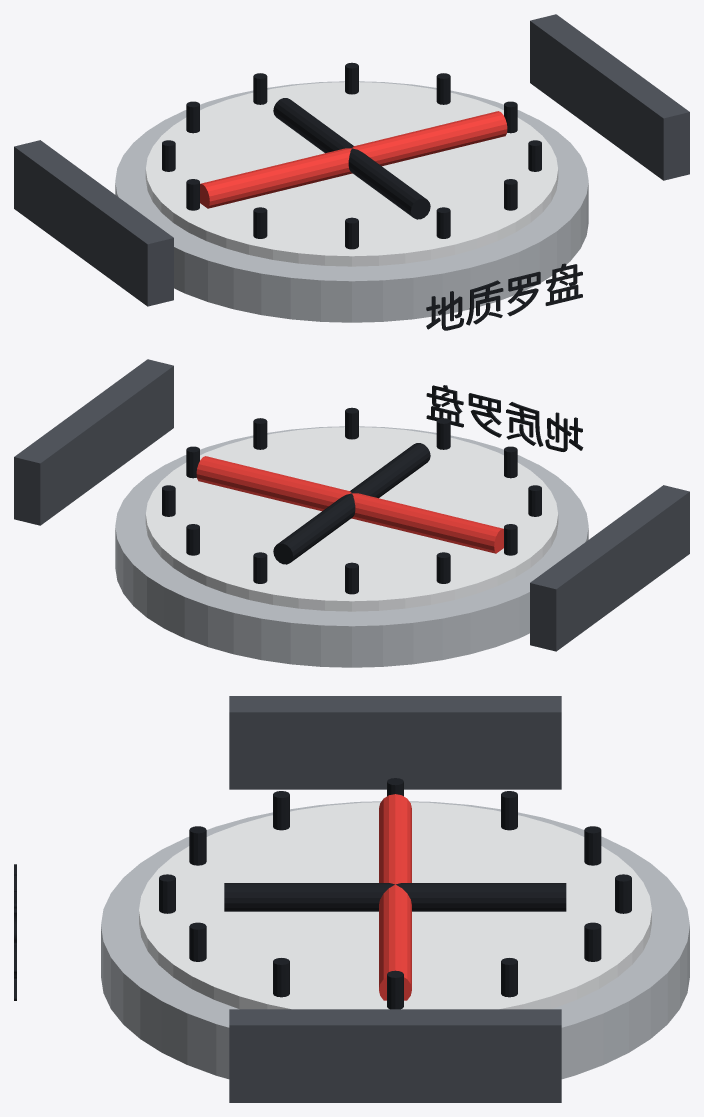
The model's file is asset_compass.glb.
The picture shows the model from 3 angles, top to bottom: view 1: azimuth 30°, elevation 25°; view 2: azimuth 150°, elevation 25°; view 3: azimuth 270°, elevation 25°; orthographic projection. The views are drawn at different scales.
Visible parts, largest first — view 1: dial, round_body, sight_l, sight_r, needle_red, needle_black, asset_label; view 2: dial, round_body, sight_l, sight_r, needle_red, needle_black, asset_label; view 3: dial, sight_r, sight_l, round_body, needle_black, needle_red, tick_4, tick_8, tick_2, tick_10, tick_9, tick_3 (+5 smaller).
Part boxes in pixels (x1,y1,x2,y2): dial: (145,82,558,266); round_body: (115,81,588,322); sight_l: (14,140,173,306); sight_r: (530,14,689,180); needle_red: (200,111,507,208); needle_black: (273,98,430,219); asset_label: (426,263,582,330); dial: (145,427,558,611); round_body: (115,426,588,667); sight_l: (530,485,689,651); sight_r: (14,359,173,525); needle_red: (196,456,503,553); needle_black: (273,443,430,564); asset_label: (426,385,583,451); dial: (139,802,651,1009); sight_r: (229,1009,561,1102); sight_l: (229,696,561,789); round_body: (101,801,689,1079); needle_black: (224,883,566,911); needle_red: (379,794,411,1000); tick_4: (584,826,601,865); tick_8: (189,826,206,865); tick_2: (584,922,601,961); tick_10: (189,922,206,961); tick_9: (159,874,175,913); tick_3: (615,874,631,913).
Size of the model in its own units: 1.64 by 0.27 by 1.42.
